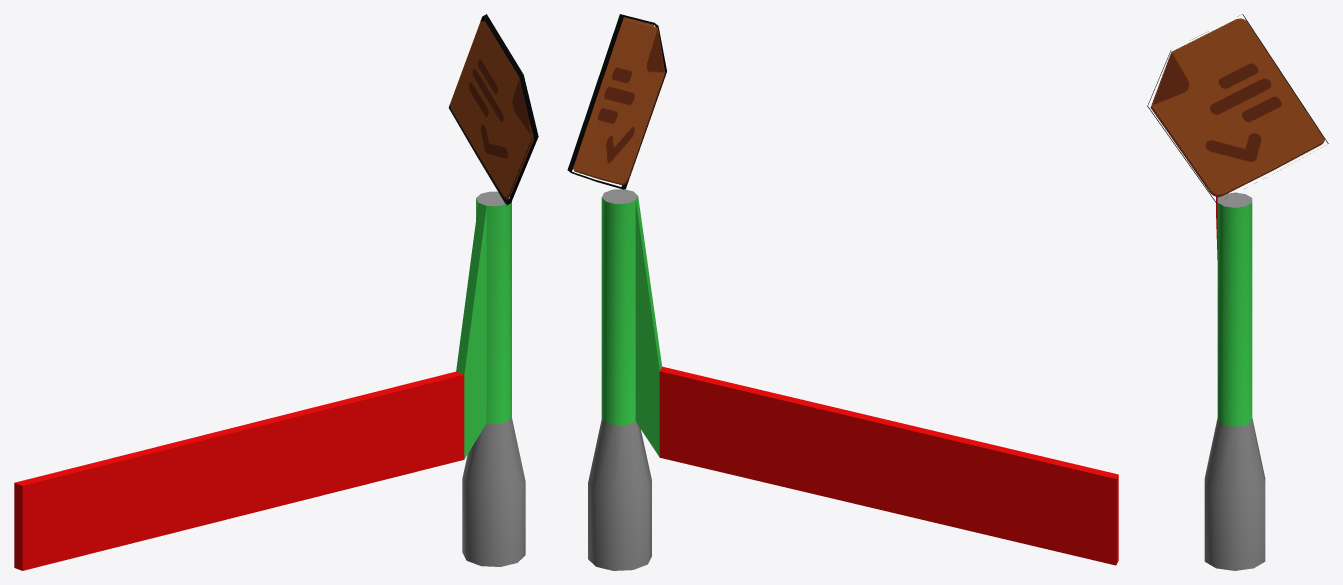
The model's file is checkpoint1.FBX.
The picture shows the model from 3 angles, left to right: view 1: azimuth 30°, elevation 25°; view 2: azimuth 150°, elevation 25°; view 3: azimuth 270°, elevation 25°; orthographic projection.
Visible parts, largest first — view 1: Cylinder001; view 2: Cylinder001; view 3: Cylinder001.
Boxes of the visible parts, box(x1,y1,x2,y2) form: Cylinder001: box(14, 14, 538, 570); Cylinder001: box(567, 14, 1118, 570); Cylinder001: box(1147, 14, 1328, 570).
Size of the model in its own units: 118 by 118 by 35.93.
6 materials, 1 textured.
